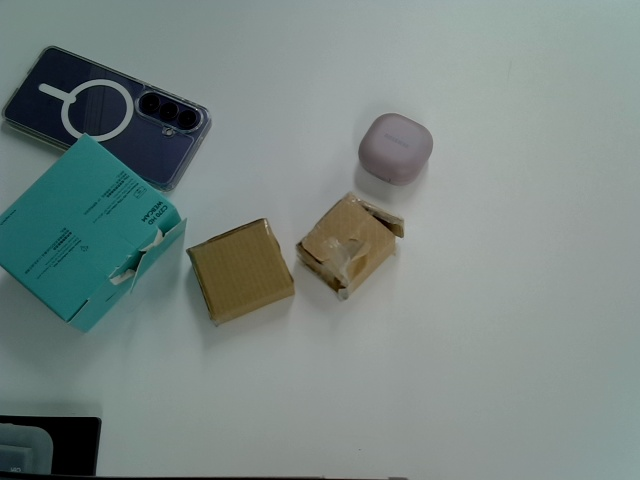defect: (296, 193, 404, 299)
normal: (186, 216, 296, 327)
